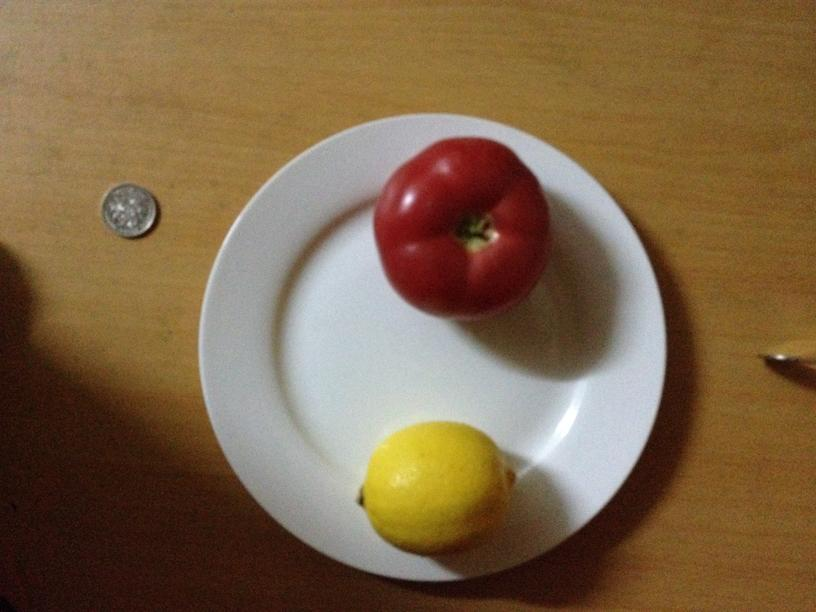coin: (100, 183, 156, 237)
lemon: (359, 419, 515, 557)
tomato: (373, 134, 551, 318)
